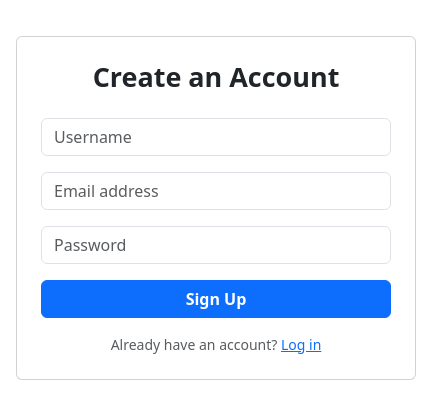
SignUp Component › displays error message from server on failed signup
Type "ExistingUser" into the field with placeholder "Username".
click(216, 137); type("ExistingUser")  # box [41,118,391,156]
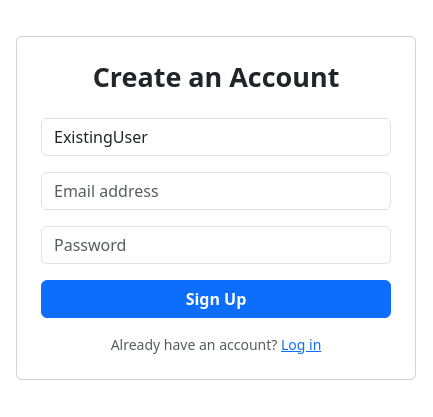
Type "existing@example.com" into the field with placeholder "Email address".
click(216, 191); type("existing@example.com")  # box [41,172,391,210]
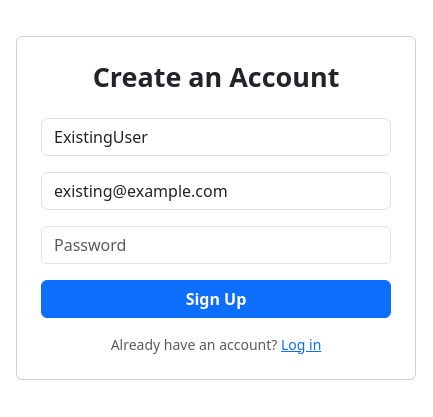
Type "123456" into the password field with placeholder "Password".
click(216, 245); type("123456")  # box [41,226,391,264]
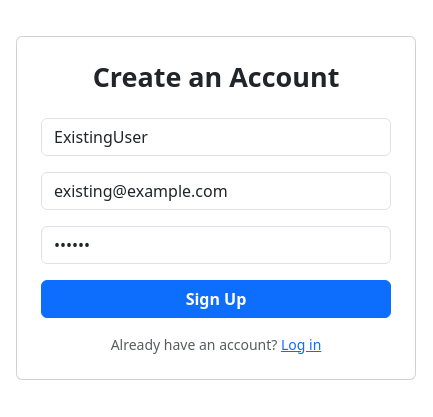
Click the button "Sign Up".
click(216, 299)  # box [41,280,391,318]
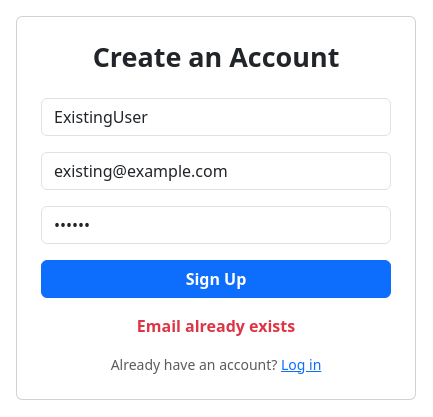
Now the text "Email already exists" is shown, box [137,315,295,337]
